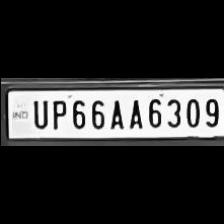0: (182, 96, 202, 127)
3: (164, 96, 182, 128)
6: (66, 96, 86, 128), (86, 97, 106, 129), (142, 96, 162, 128)
9: (201, 96, 221, 128)
A: (124, 96, 142, 128), (108, 96, 125, 128)
P: (47, 97, 66, 129)
U: (28, 97, 48, 129)
